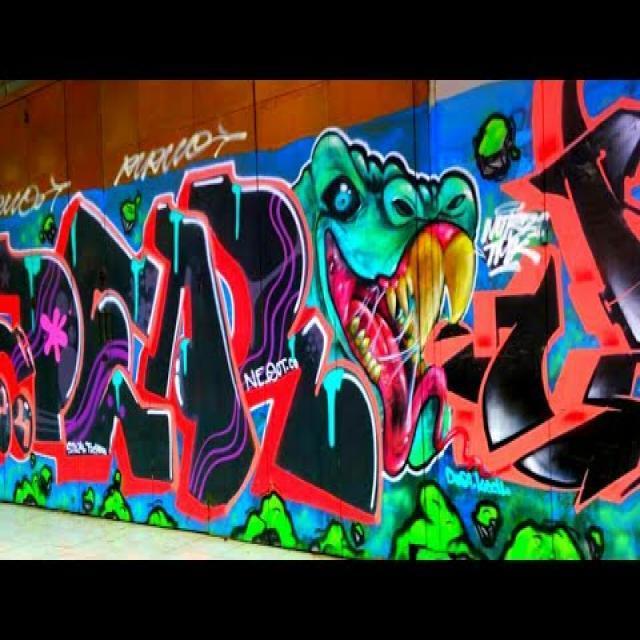-: (0, 80, 640, 558), (112, 122, 246, 184), (0, 172, 69, 216)
